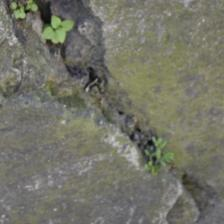Crack: (61, 57, 145, 170), (33, 53, 79, 161)
